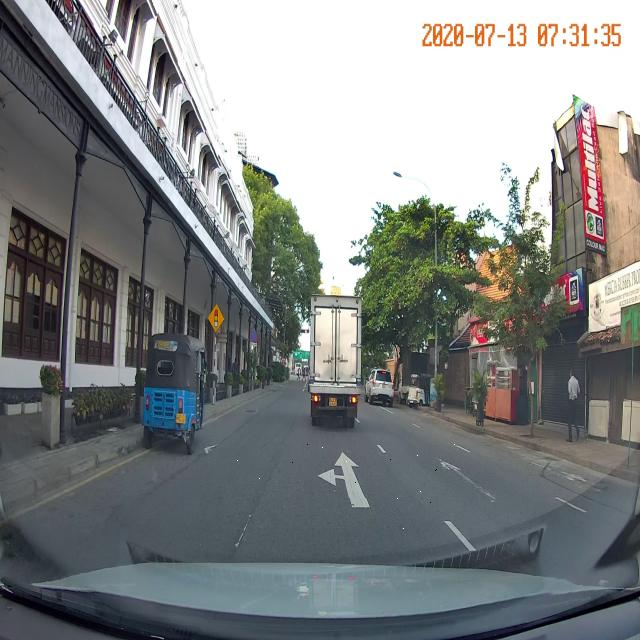forward_lft: (236, 444, 457, 538), (237, 454, 455, 540), (236, 459, 455, 535), (252, 445, 429, 498)
